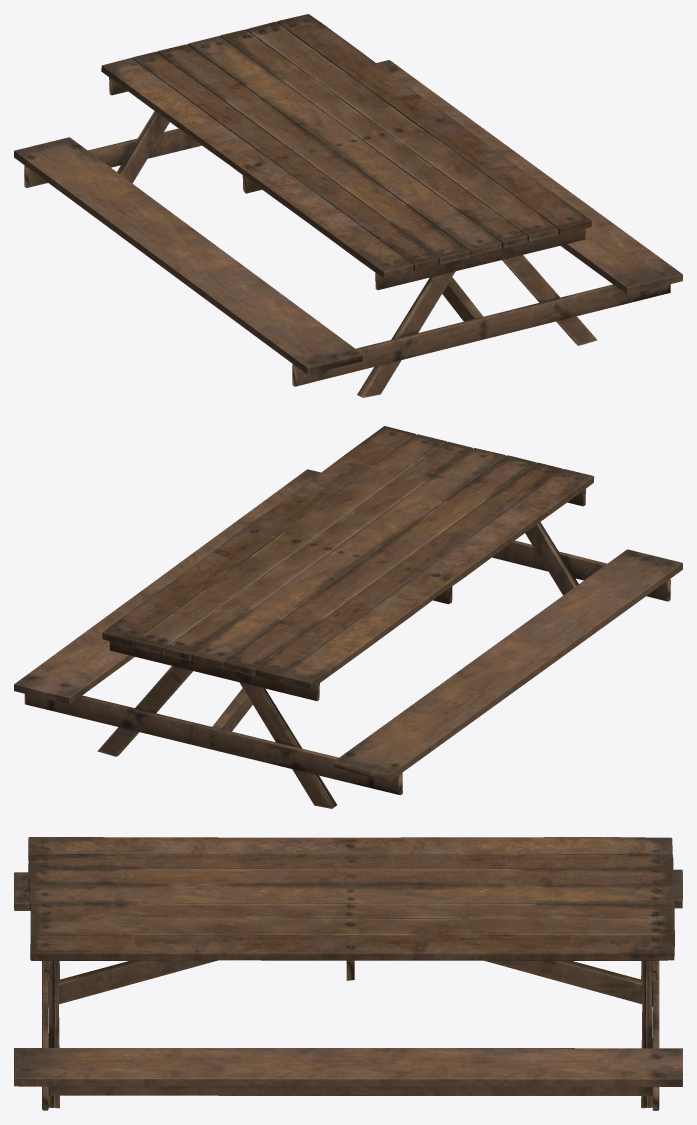
3 renders of one model, top to bottom at view 1: azimuth 30°, elevation 25°; view 2: azimuth 150°, elevation 25°; view 3: azimuth 270°, elevation 25°, orthographic. The views are drawn at different scales.
Parts seen in each view (by area): view 1: wooden_picnic_table_lod1; view 2: wooden_picnic_table_lod1; view 3: wooden_picnic_table_lod1.
Part boxes in pixels (<box>): wooden_picnic_table_lod1: <box>14,14,682,397</box>; wooden_picnic_table_lod1: <box>14,426,682,808</box>; wooden_picnic_table_lod1: <box>14,837,682,1110</box>.
Size of the model in its own units: 2.24 by 0.7454 by 3.02.
Materials: 2 (2 with a texture image).
